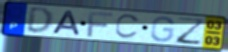A: (51, 10, 82, 37)
C: (114, 13, 142, 40)
D: (24, 7, 55, 36)
F: (86, 11, 115, 38)
G: (149, 15, 176, 43)
Z: (176, 16, 207, 46)
